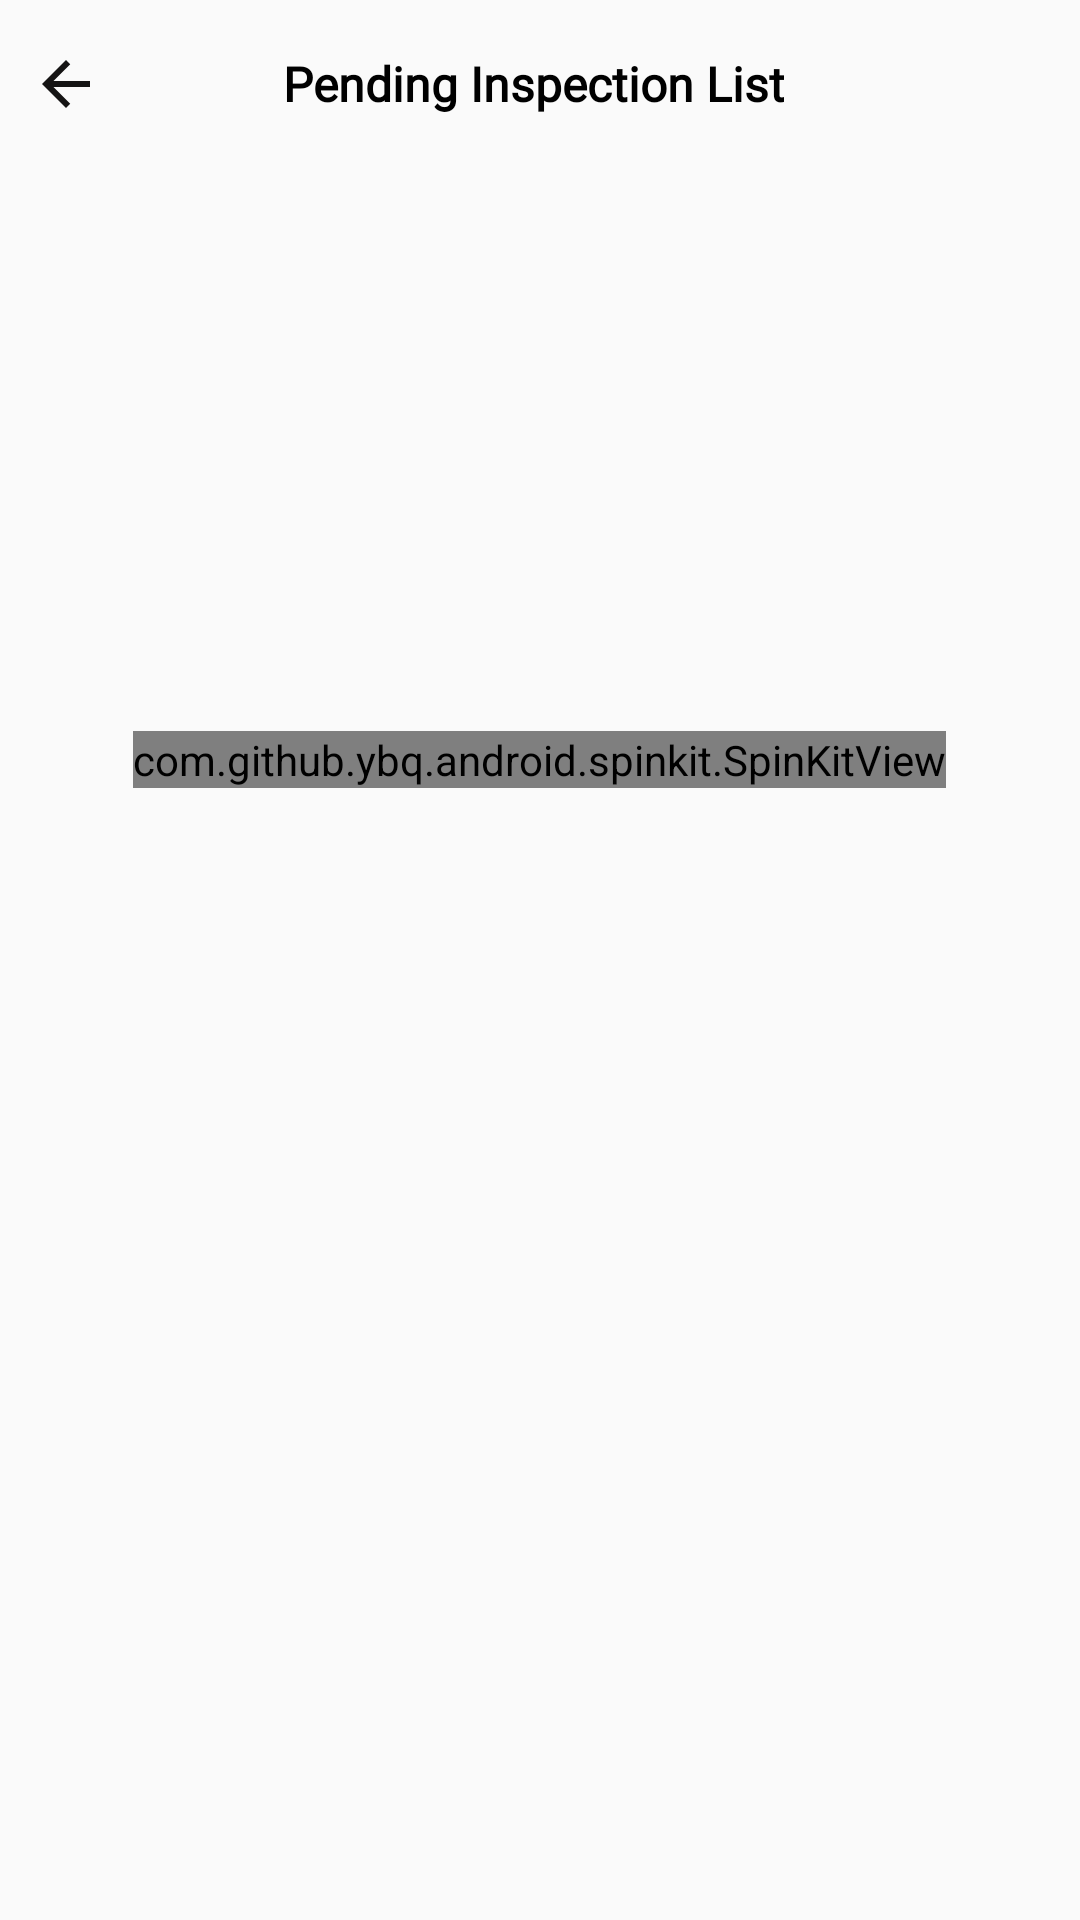

Where icons sit on this 1080w x 1920h app screen, as (x1, y1, x2, y2):
back arrow: (42, 60, 90, 108)
